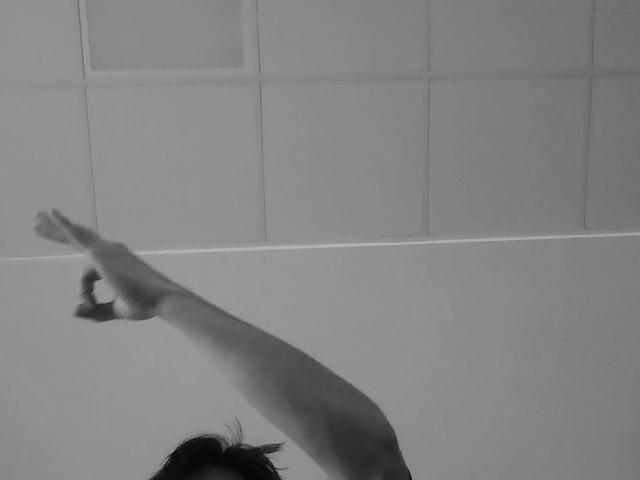OK: (19, 202, 155, 316)
